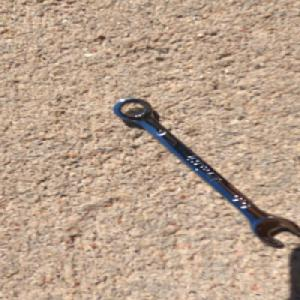Wrench: (111, 96, 300, 248)
